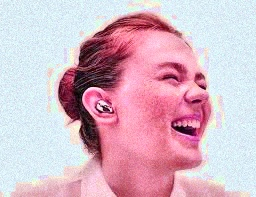earphone: (81, 87, 119, 125)
